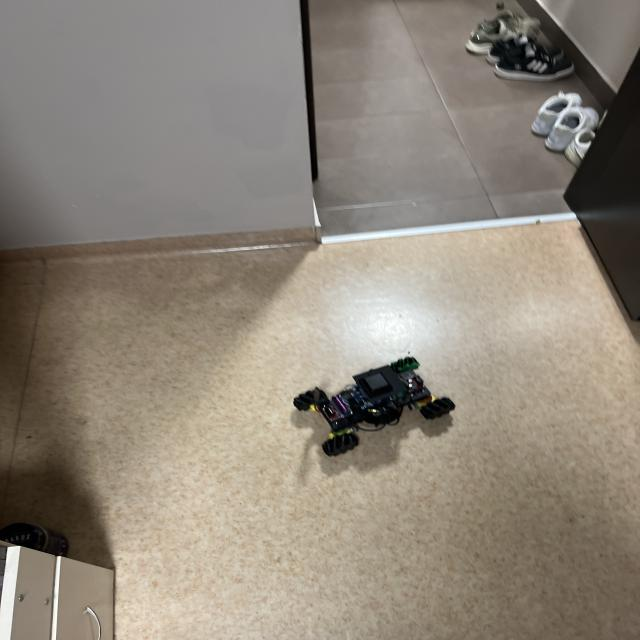robot: (293, 355, 455, 455)
